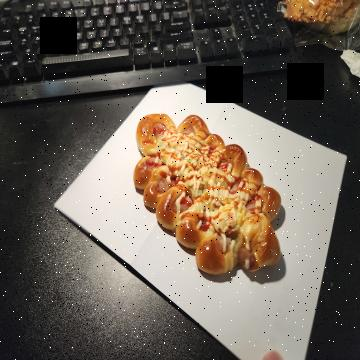pizza_bread: (135, 111, 282, 280)
